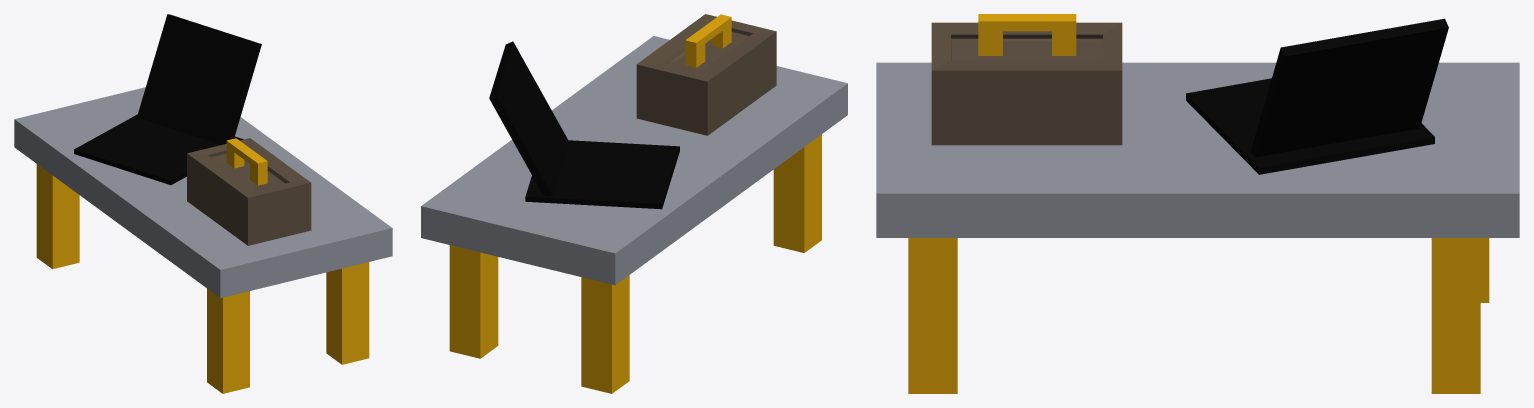
Rendered from workbench.fbx.
3 views of the same model, side by side, from view 1: azimuth 30°, elevation 25°; view 2: azimuth 150°, elevation 25°; view 3: azimuth 270°, elevation 25° (orthographic). The views are drawn at different scales.
Parts seen in each view (by area): view 1: Cube.006; view 2: Cube.006; view 3: Cube.006.
Boxes of the visible parts, box(x1,y1,x2,y2) form: Cube.006: box(14, 14, 392, 393); Cube.006: box(421, 14, 847, 393); Cube.006: box(876, 14, 1519, 393).
Bounding box in the file's own units: 326 × 408 × 675.
